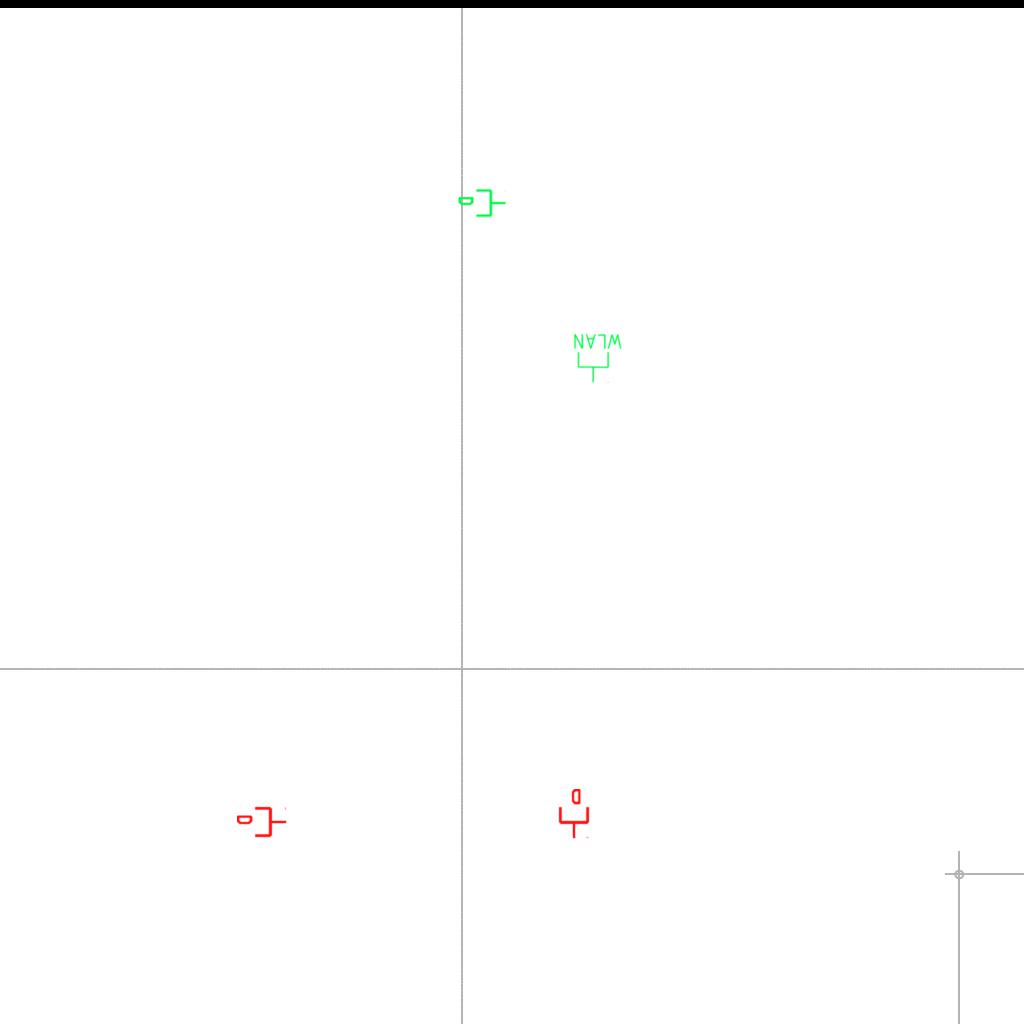Datenanschluss_einfach: (457, 187, 507, 221), (557, 789, 591, 839), (237, 805, 287, 839)
WLAN: (572, 332, 624, 384)
